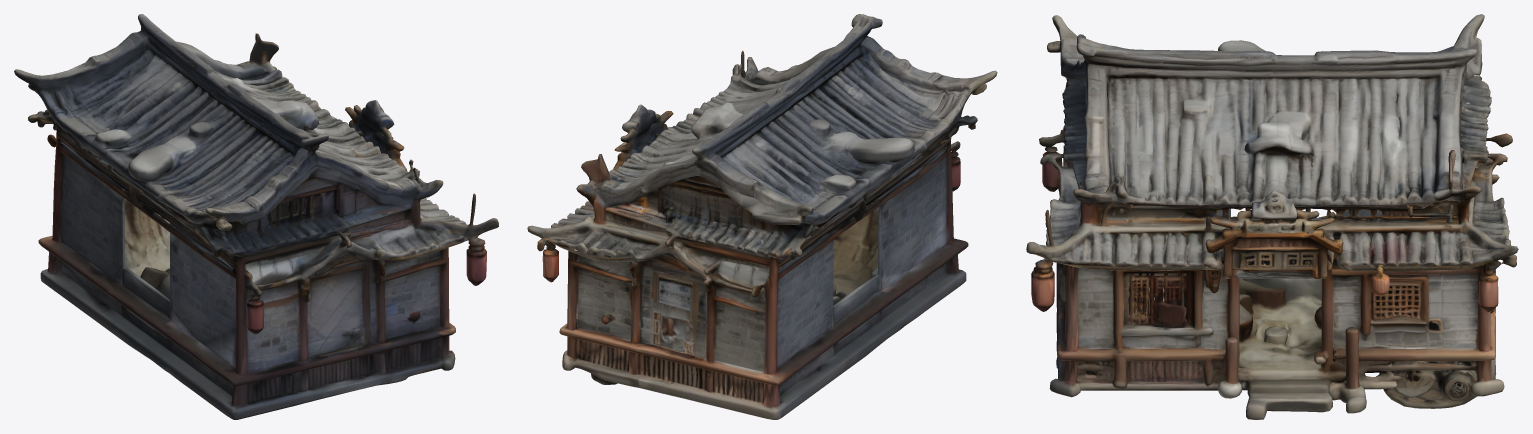
File: building-bathhouse.glb
3 views of the same model, side by side, from view 1: azimuth 30°, elevation 25°; view 2: azimuth 150°, elevation 25°; view 3: azimuth 270°, elevation 25° (orthographic). The views are drawn at different scales.
Visible parts, largest first — view 1: tripo_node_021a9d78-d13c-42f9-968b-1d6a44ce9dd5; view 2: tripo_node_021a9d78-d13c-42f9-968b-1d6a44ce9dd5; view 3: tripo_node_021a9d78-d13c-42f9-968b-1d6a44ce9dd5.
Boxes of the visible parts, <box> form: tripo_node_021a9d78-d13c-42f9-968b-1d6a44ce9dd5: <box>14,14,498,419</box>; tripo_node_021a9d78-d13c-42f9-968b-1d6a44ce9dd5: <box>527,14,997,419</box>; tripo_node_021a9d78-d13c-42f9-968b-1d6a44ce9dd5: <box>1026,14,1518,419</box>.
Bounding box in the file's own units: 6.62 × 6 × 8.54.
Materials: 1 (1 with a texture image).
